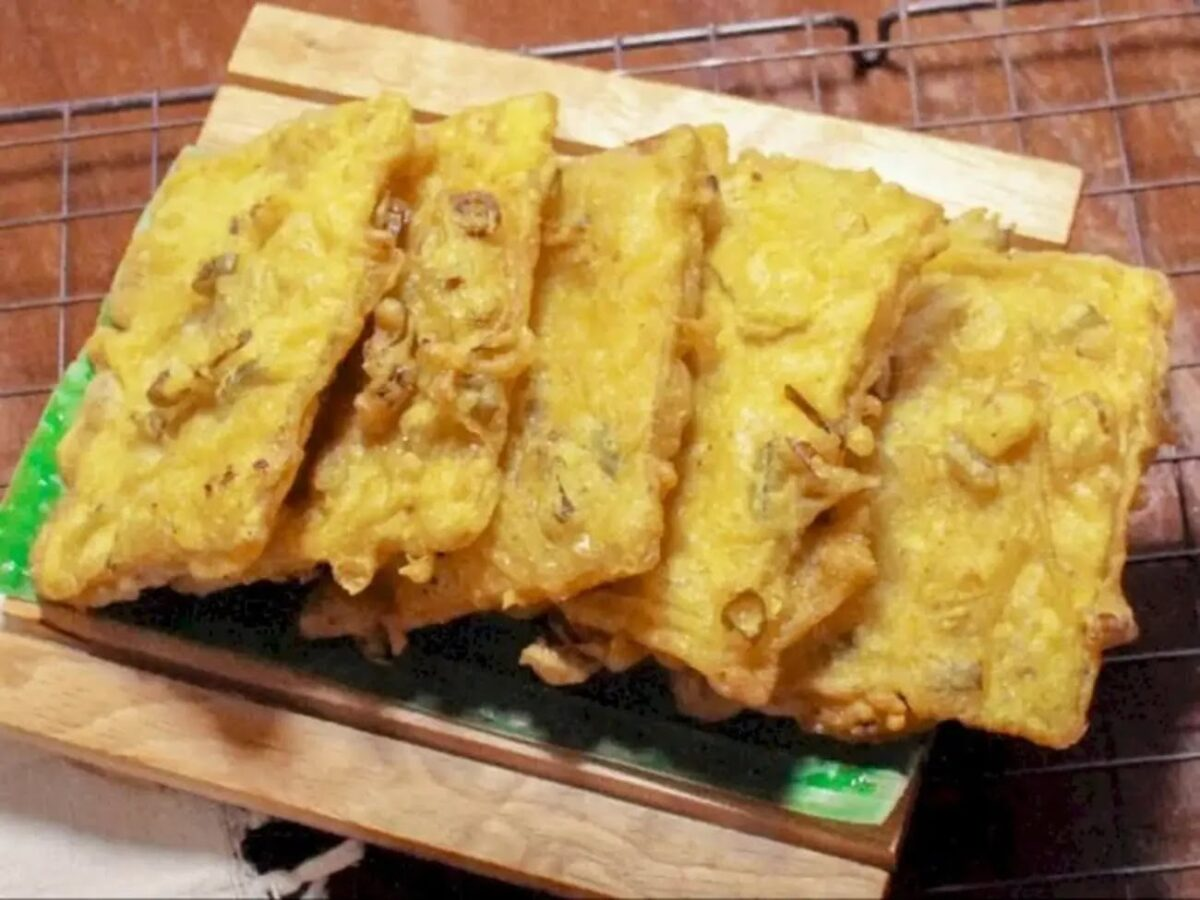Tempe: (572, 177, 951, 674), (821, 258, 1195, 734), (413, 125, 743, 633), (59, 118, 393, 569), (293, 86, 577, 525)
